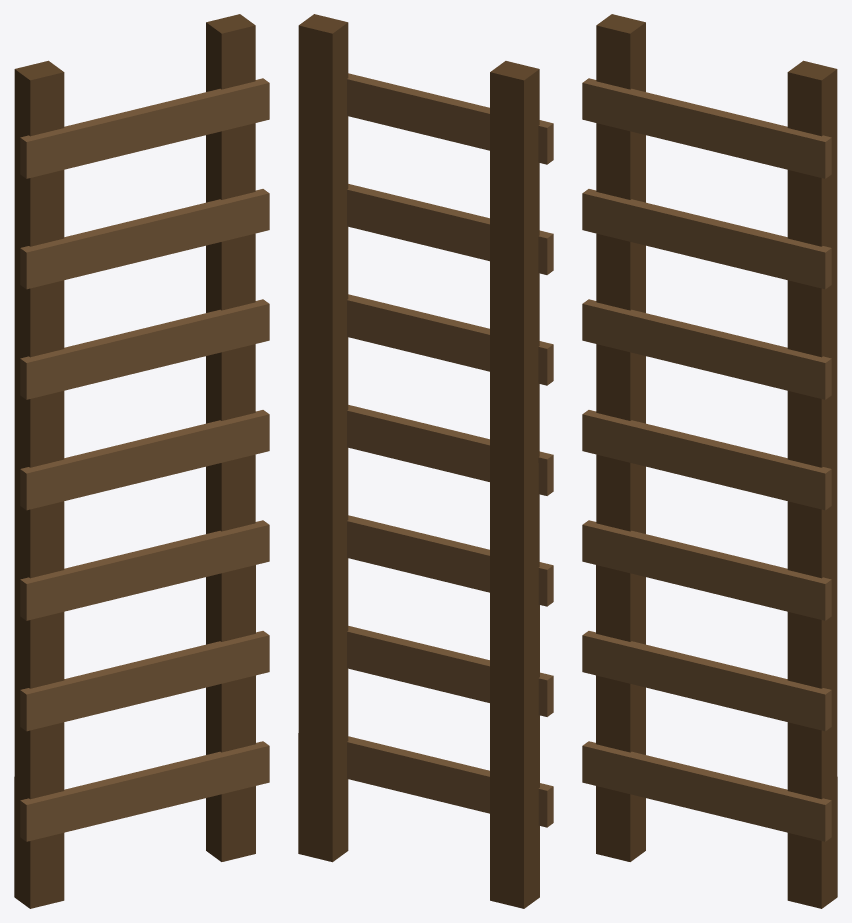
File: Mesh_Props_Stairs_01.obj
The picture shows the model from 3 angles, left to right: view 1: azimuth 30°, elevation 25°; view 2: azimuth 150°, elevation 25°; view 3: azimuth 330°, elevation 25°; orthographic projection.
Visible parts, largest first — view 1: Mesh_Props_Stairs_01_M_LowPolyFarm_MAIN; view 2: Mesh_Props_Stairs_01_M_LowPolyFarm_MAIN; view 3: Mesh_Props_Stairs_01_M_LowPolyFarm_MAIN.
Part boxes in pixels (left/top/right/bottom): Mesh_Props_Stairs_01_M_LowPolyFarm_MAIN: left=14, top=14, right=269, bottom=908; Mesh_Props_Stairs_01_M_LowPolyFarm_MAIN: left=298, top=14, right=553, bottom=908; Mesh_Props_Stairs_01_M_LowPolyFarm_MAIN: left=582, top=14, right=837, bottom=908.
Bounding box in the file's own units: 0.5923 × 1.93 × 0.0874.
